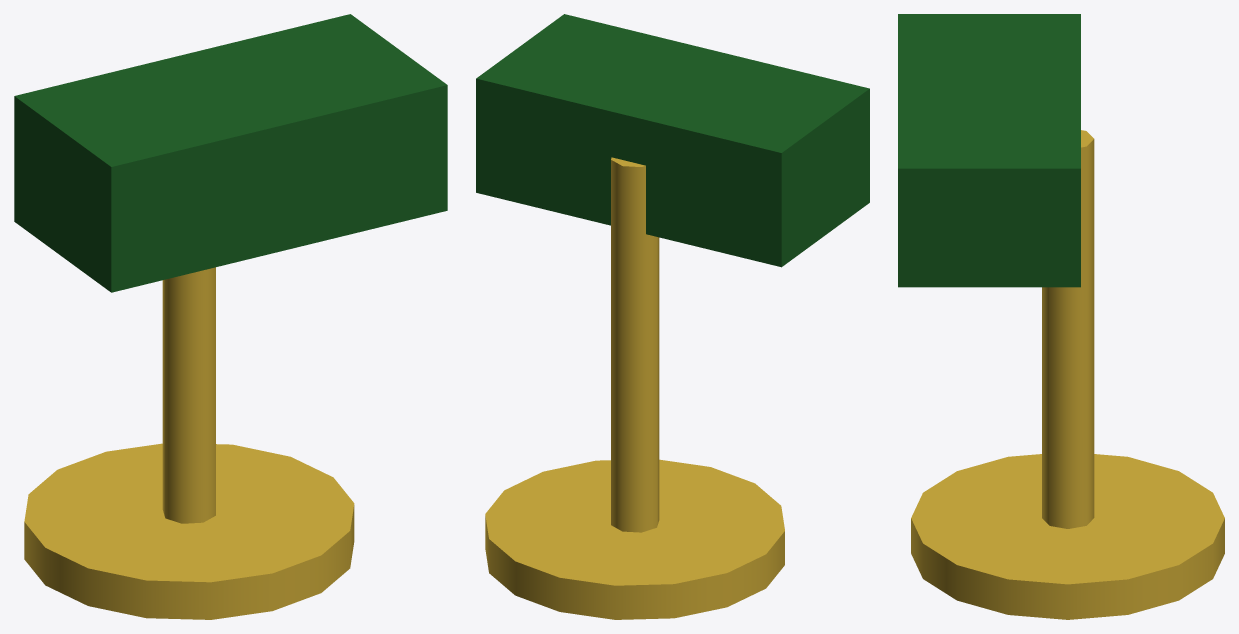
The model's file is Prop_BankerLamp.obj.
3 views of the same model, side by side, from view 1: azimuth 30°, elevation 25°; view 2: azimuth 150°, elevation 25°; view 3: azimuth 270°, elevation 25° (orthographic). The views are drawn at different scales.
Bounding box in the file's own units: 0.28 × 0.39 × 0.25.
